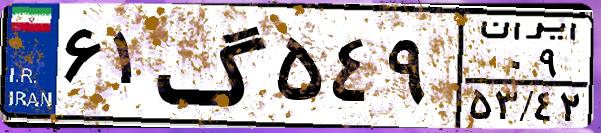0: (508, 27, 537, 80)
1: (110, 28, 156, 98)
2: (560, 70, 590, 125)
3: (495, 70, 520, 125)
4: (330, 28, 385, 110), (535, 70, 560, 125)
5: (270, 28, 330, 110), (470, 70, 495, 125)
6: (57, 26, 110, 100)
9: (385, 28, 445, 110), (537, 27, 568, 80)
گ: (156, 12, 270, 120)
